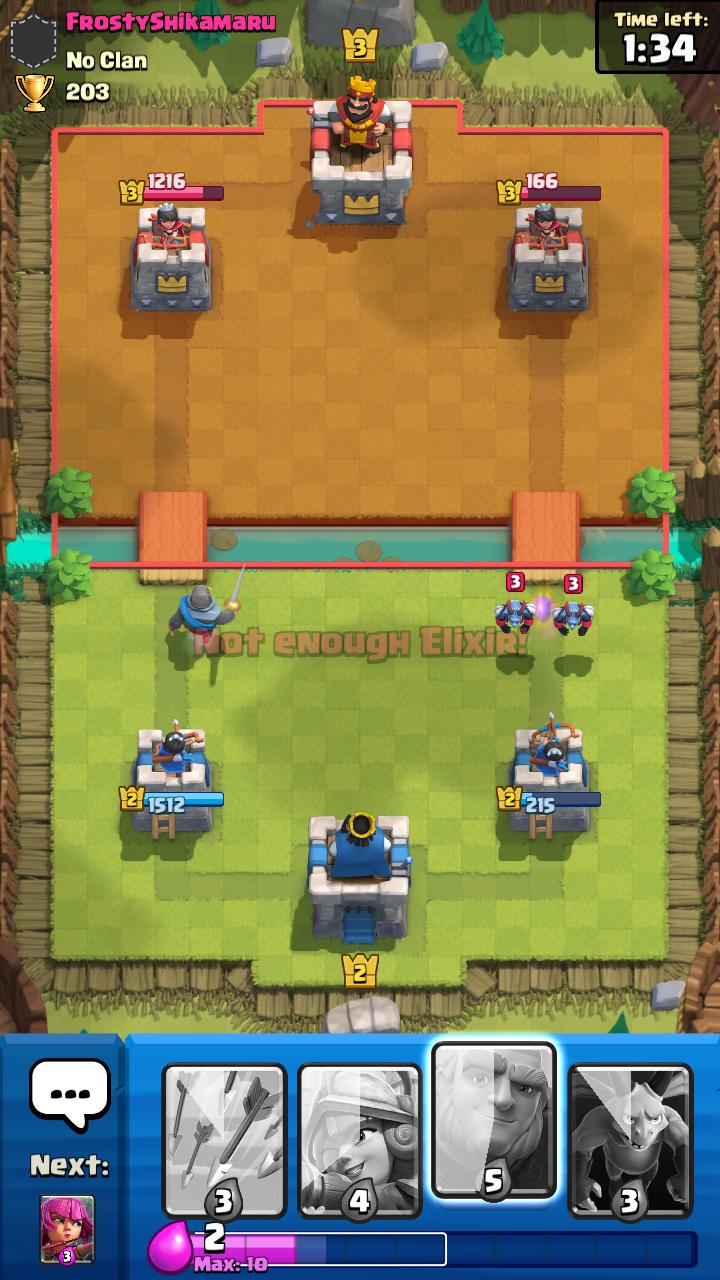ally: (169, 564, 245, 643)
enemy: (494, 572, 537, 634), (553, 574, 594, 636)
